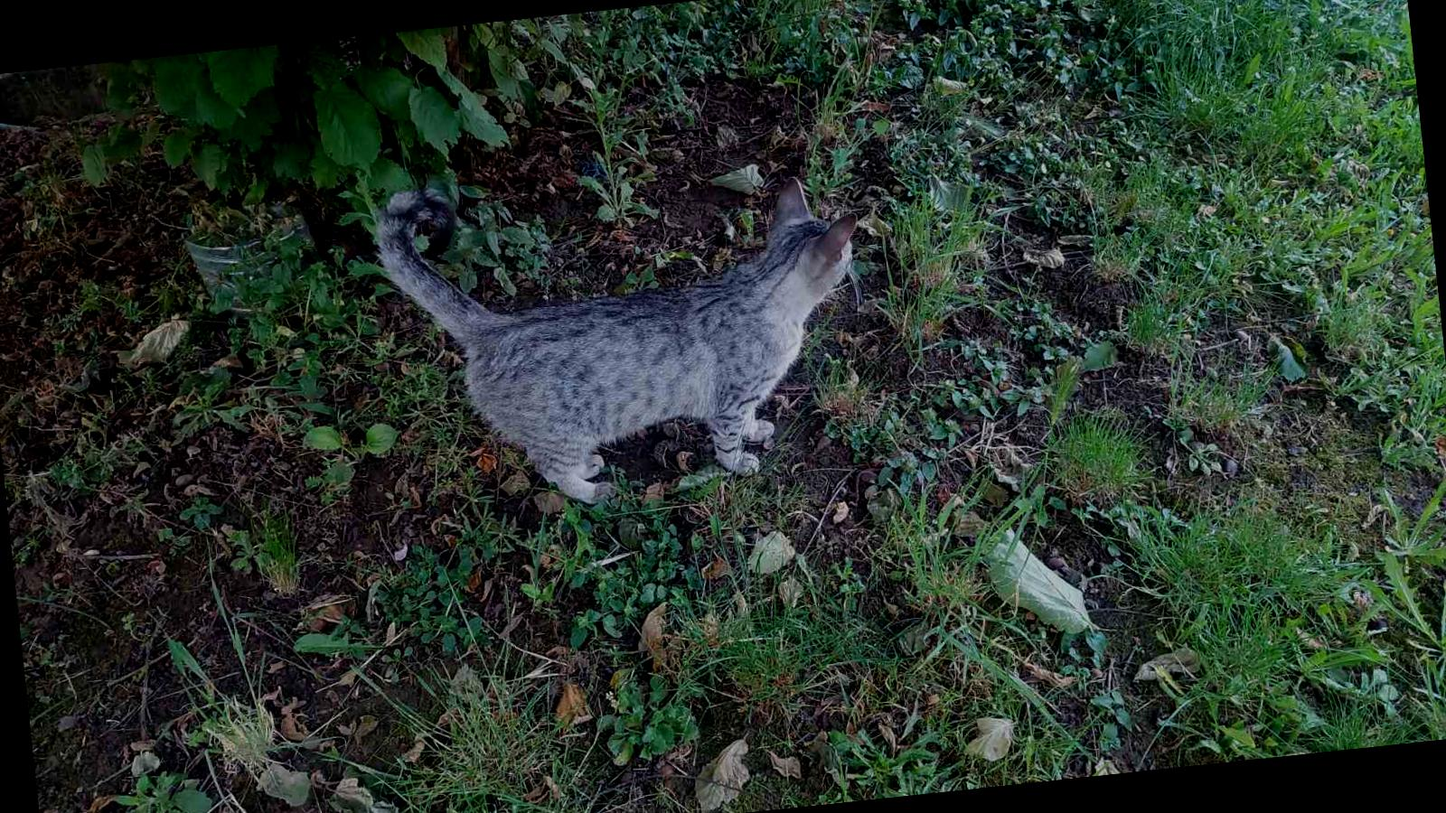macka: (371, 142, 883, 525)
